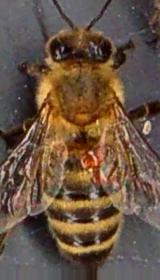varroa_mite: (75, 132, 116, 170)
